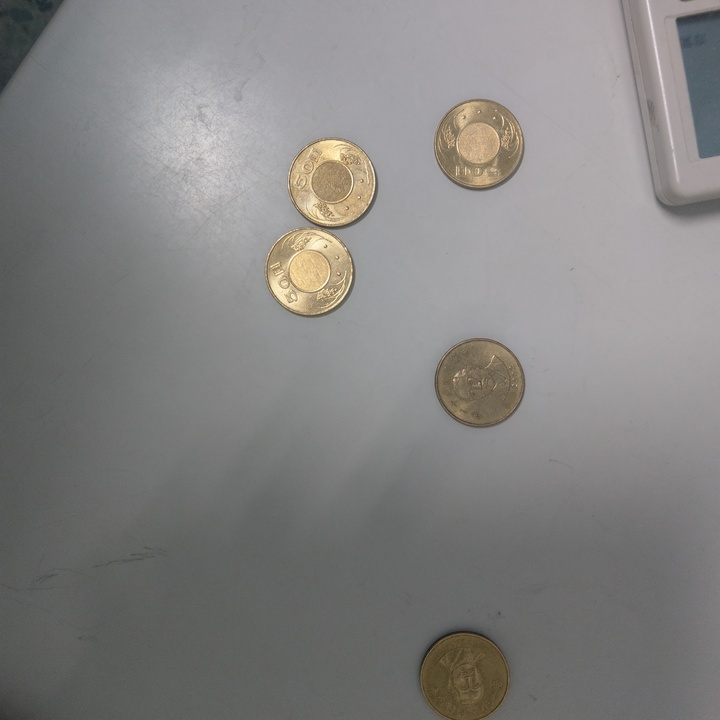50 dollar: (285, 134, 382, 231), (431, 97, 526, 194), (264, 231, 360, 321), (437, 336, 526, 432), (418, 629, 510, 720)
